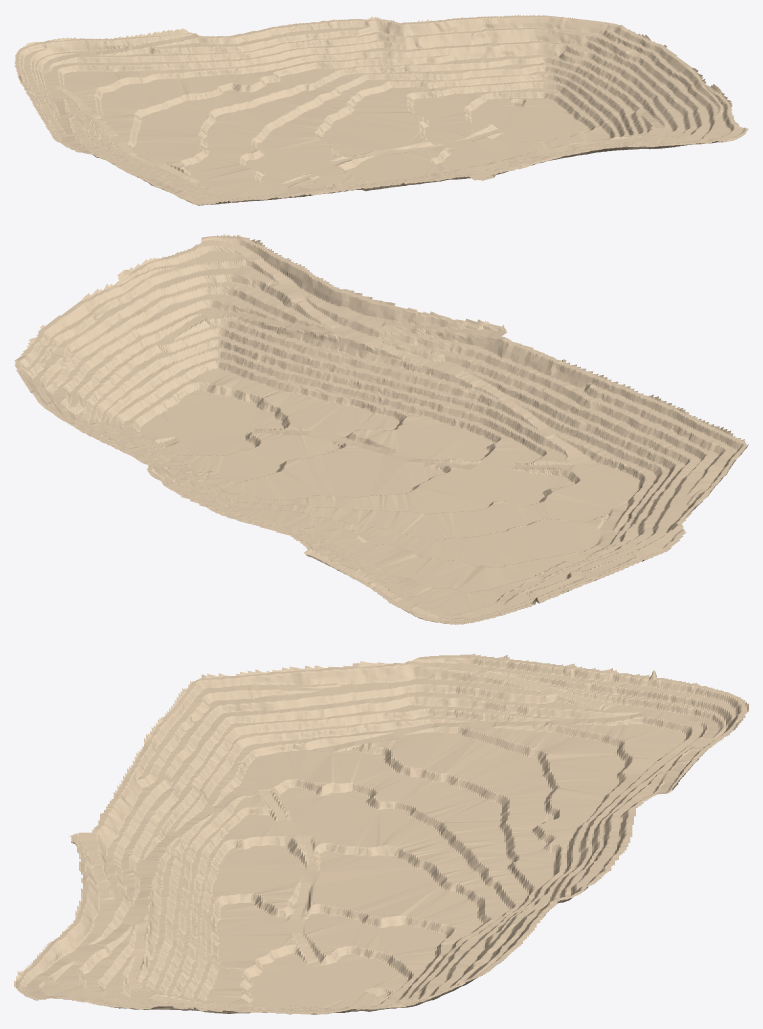
File: pit_03.glb
3 renders of one model, top to bottom at view 1: azimuth 30°, elevation 25°; view 2: azimuth 150°, elevation 25°; view 3: azimuth 270°, elevation 25°, orthographic. The views are drawn at different scales.
Bounding box in the file's own units: 2230 × 192 × 1920.
